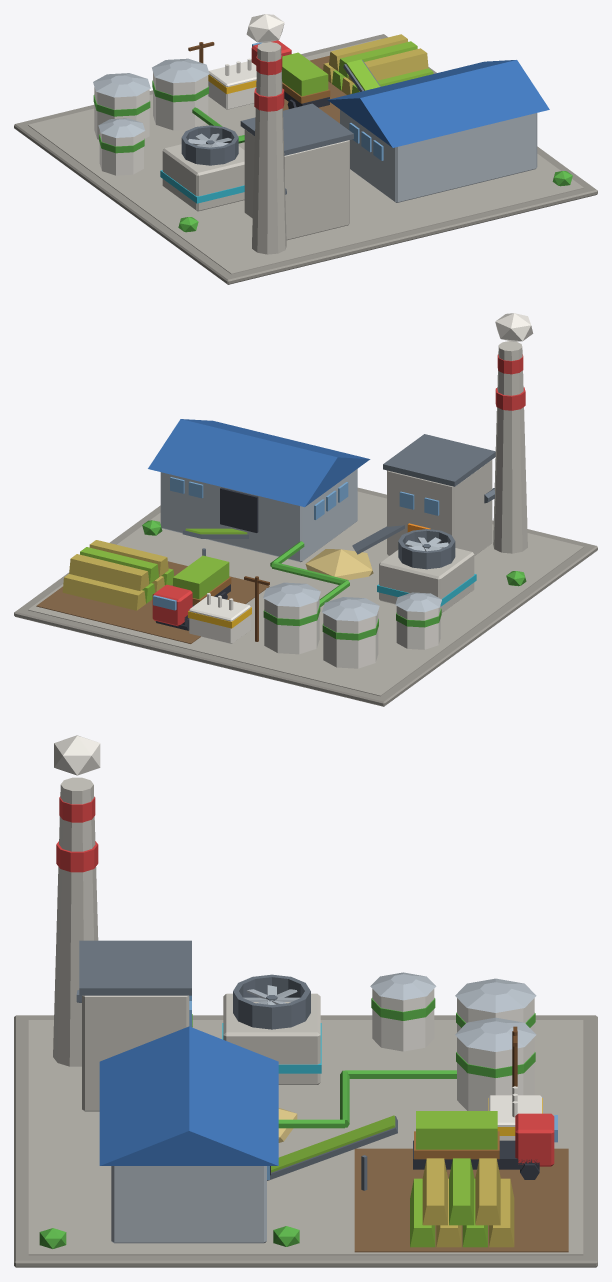
File: sugarcane_mill.glb
3 renders of one model, top to bottom at view 1: azimuth 30°, elevation 25°; view 2: azimuth 150°, elevation 25°; view 3: azimuth 270°, elevation 25°, orthographic. The views are drawn at different scales.
Visible parts, largest first — view 1: corpo, gira_1.001; view 2: corpo; view 3: corpo.
Boxes of the visible parts, x1,y1,x2,y2 form: corpo: (14,14,597,284); gira_1.001: (188,133,231,147); corpo: (14,313,597,706); corpo: (14,735,597,1267).
Bounding box in the file's own units: 6 × 4.08 × 6.
